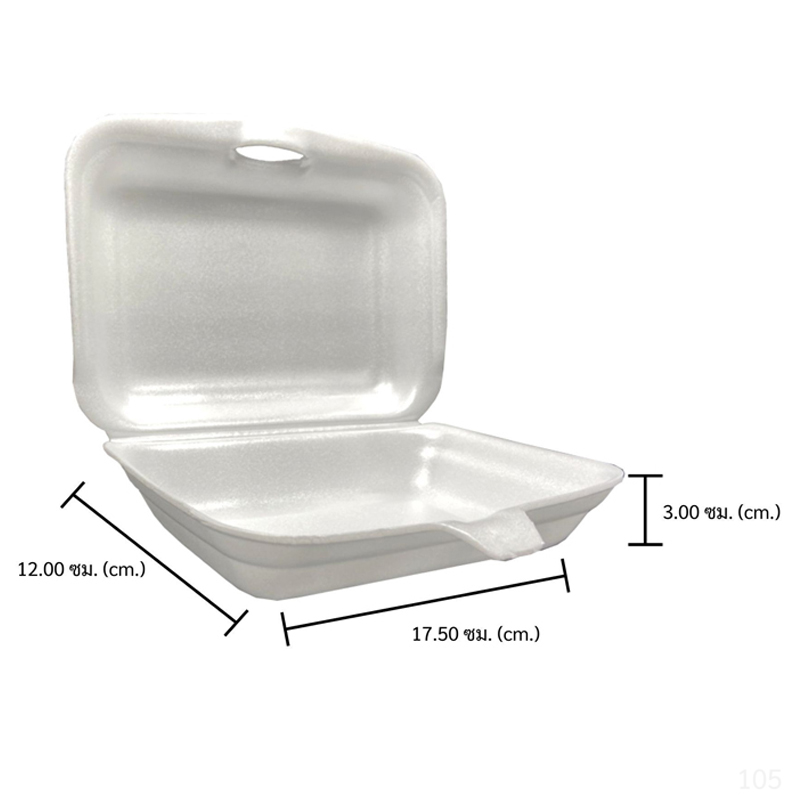FoamBox: (56, 104, 637, 608)
